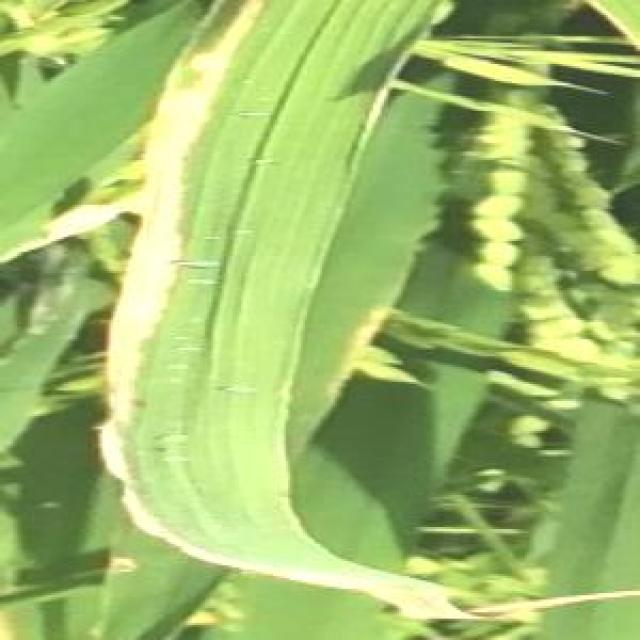Rice_Bacterial_Blight: (98, 94, 309, 555)
